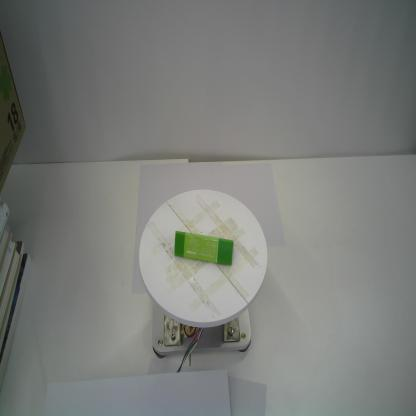Stationery: (174, 230, 234, 266)
